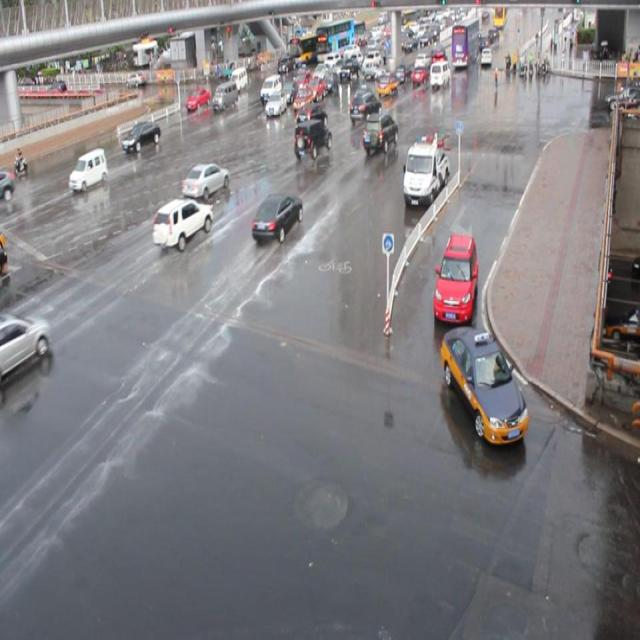bus: (401, 134, 447, 203)
car: (440, 324, 528, 443), (432, 233, 478, 320), (152, 197, 213, 251), (1, 313, 51, 372), (251, 190, 303, 244), (182, 162, 229, 202), (292, 119, 332, 158), (361, 112, 397, 152), (122, 121, 161, 153), (348, 90, 381, 122), (295, 102, 327, 131), (350, 84, 375, 109), (185, 86, 210, 111), (264, 90, 286, 115), (376, 72, 399, 95), (292, 86, 312, 110), (279, 78, 298, 101), (305, 75, 324, 98), (292, 70, 310, 91)
truck: (68, 148, 108, 192), (211, 81, 239, 110), (260, 75, 282, 102)
